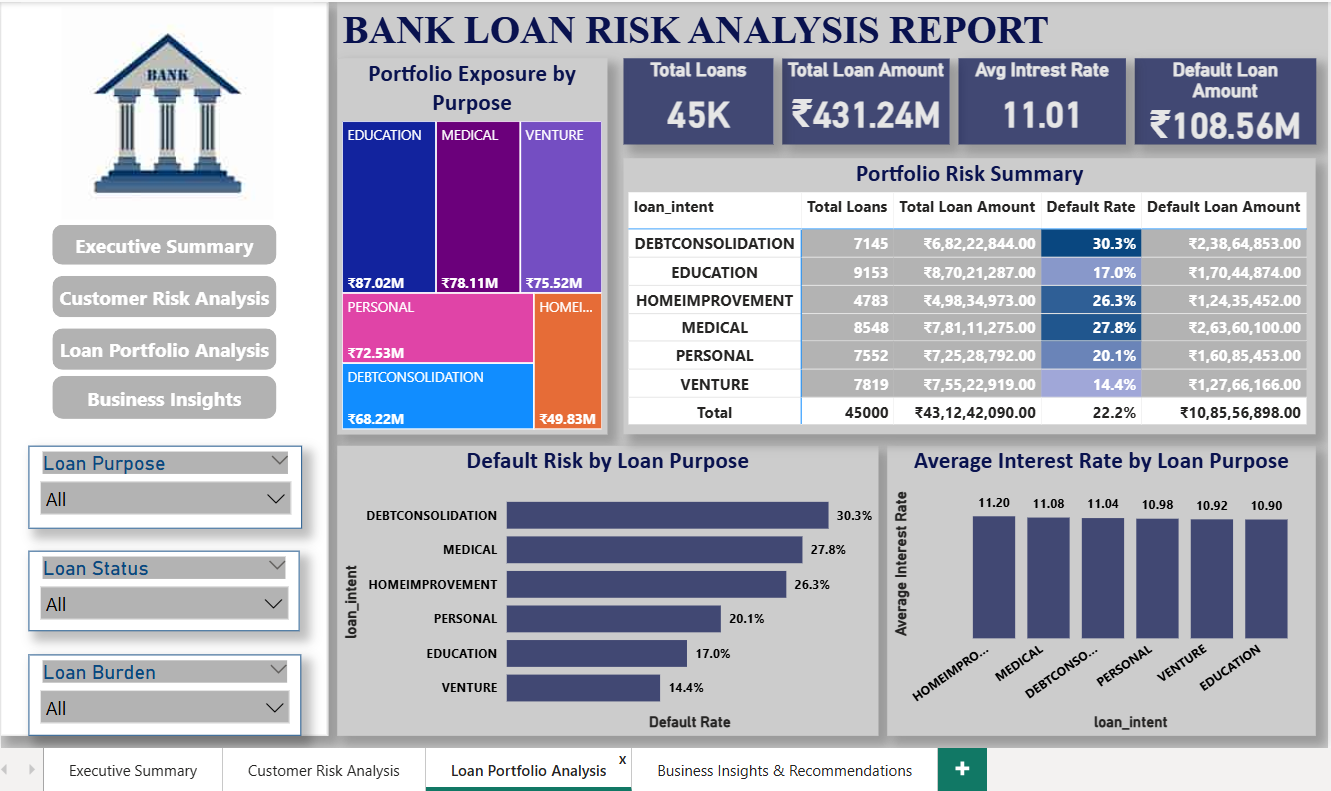

What the dashboard file says about the page in this screenshot:
{"tool":"powerbi","page":{"name":"Loan Portfolio Analysis","canvas":[1280,720],"ordinal":2},"visuals":[{"type":"card","title":"Total Loan Amount","fields":{"Values":["LoanData.Total Loan Amount"]},"box":[754,54.3,161.7,83.2],"z":0},{"type":"shape","box":[0,0,316,708.4],"z":1000},{"type":"actionButton","box":[49.1,264,216.4,40.4],"z":2000},{"type":"actionButton","box":[49.1,215,216.4,39],"z":3000},{"type":"actionButton","box":[49.1,314.5,216.4,40.4],"z":4000},{"type":"actionButton","box":[49.1,360.7,216.4,41.8],"z":5000},{"type":"image","box":[18.8,0,282.8,215],"z":6000},{"type":"textbox","box":[324.5,0,955.5,54.3],"z":7000},{"type":"slicer","fields":{"Values":["LoanData.Loan Status Name"]},"box":[26.5,529.6,261.8,77.2],"z":8000},{"type":"slicer","fields":{"Values":["LoanData.loan_intent"]},"box":[26.5,428.3,264.2,79.6],"z":9000},{"type":"slicer","fields":{"Values":["LoanData.loan_burden_category"]},"box":[26.5,629.8,263,78.4],"z":10000},{"type":"card","title":"Total Loans","fields":{"Values":["LoanData.Total Loans"]},"box":[600.8,54.3,144.8,83.2],"z":11000},{"type":"card","title":"Default Loan Amount","fields":{"Values":["LoanData.Default Loan Amount"]},"box":[1094.2,54.3,174.9,83.2],"z":12000},{"type":"card","title":"Avg Intrest Rate","fields":{"Values":["LoanData.Average Interest Rate"]},"box":[924.1,54.3,161.7,83.2],"z":13000},{"type":"treemap","title":"Portfolio Exposure by Purpose","fields":{"Group":["LoanData.loan_intent"],"Values":["LoanData.Total Loan Amount"]},"box":[324.5,54.3,260.6,363.1],"z":14000},{"type":"clusteredBarChart","title":"Default Risk by Loan Purpose","fields":{"Category":["LoanData.loan_intent"],"Y":["LoanData.Default Rate"]},"box":[324.5,428.3,522.4,279.9],"z":14001},{"type":"clusteredColumnChart","title":"Average Interest Rate by Loan Purpose","fields":{"Category":["LoanData.loan_intent"],"Y":["LoanData.Average Interest Rate"]},"box":[855.4,428.3,413.8,279.9],"z":14002},{"type":"pivotTable","title":"Portfolio Risk Summary","fields":{"Rows":["LoanData.loan_intent"],"Values":["LoanData.Total Loans","LoanData.Total Loan Amount","LoanData.Default Rate","LoanData.Default Loan Amount"]},"box":[600.8,150.8,668.4,266.6],"z":14003}]}

Visuals, with their boxes on the page's 1280x720 design canvas (x1, y1, x2, y2). These are canvas units, not pixel positions in the 1331x791 screenshot, which may show the page scaled, cropped or inside an application window:
"Total Loan Amount" card: locate(754, 54, 916, 138)
shape: locate(0, 0, 316, 708)
actionButton: locate(49, 264, 266, 304)
actionButton: locate(49, 215, 266, 254)
actionButton: locate(49, 314, 266, 355)
actionButton: locate(49, 361, 266, 402)
image: locate(19, 0, 302, 215)
textbox: locate(324, 0, 1280, 54)
slicer - LoanData.Loan Status Name: locate(26, 530, 288, 607)
slicer - LoanData.loan_intent: locate(26, 428, 291, 508)
slicer - LoanData.loan_burden_category: locate(26, 630, 290, 708)
"Total Loans" card: locate(601, 54, 746, 138)
"Default Loan Amount" card: locate(1094, 54, 1269, 138)
"Avg Intrest Rate" card: locate(924, 54, 1086, 138)
"Portfolio Exposure by Purpose" treemap: locate(324, 54, 585, 417)
"Default Risk by Loan Purpose" clusteredBarChart: locate(324, 428, 847, 708)
"Average Interest Rate by Loan Purpose" clusteredColumnChart: locate(855, 428, 1269, 708)
"Portfolio Risk Summary" pivotTable: locate(601, 151, 1269, 417)
